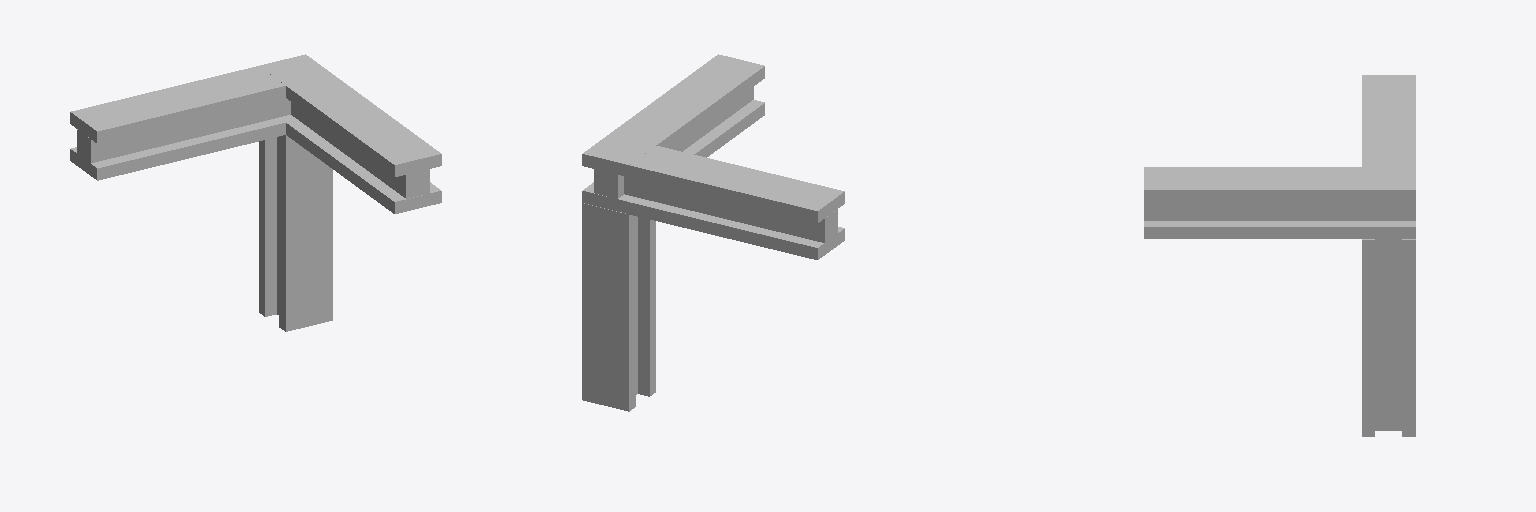
Rendered from companionCreatorFrame2.obj.
3 renders of one model, left to right at view 1: azimuth 30°, elevation 25°; view 2: azimuth 150°, elevation 25°; view 3: azimuth 270°, elevation 25°, orthographic.
Visible parts, largest first — view 1: E, H, A, C, B, G, D, I; view 2: D, H, A, C, B, E, G, I; view 3: H, F, A, G, I, D, E.
Part boxes in pixels (x1,y1,x2,y2): E: (279, 135, 332, 331); H: (260, 54, 441, 177); A: (70, 66, 285, 143); C: (77, 98, 290, 163); B: (70, 118, 285, 180); G: (279, 115, 441, 213); D: (259, 137, 276, 316); I: (291, 102, 429, 198); D: (582, 203, 635, 411); H: (582, 54, 764, 176); A: (629, 146, 844, 223); C: (624, 176, 837, 242); B: (629, 197, 844, 259); E: (638, 217, 655, 396); G: (582, 100, 764, 213); I: (594, 87, 753, 198); H: (1144, 167, 1415, 202); F: (1375, 239, 1401, 430); A: (1362, 75, 1415, 166); G: (1144, 221, 1415, 238); I: (1144, 203, 1415, 220); D: (1402, 239, 1415, 436); E: (1362, 239, 1374, 436).
Bounding box in the file's own units: 2 × 2 × 2.